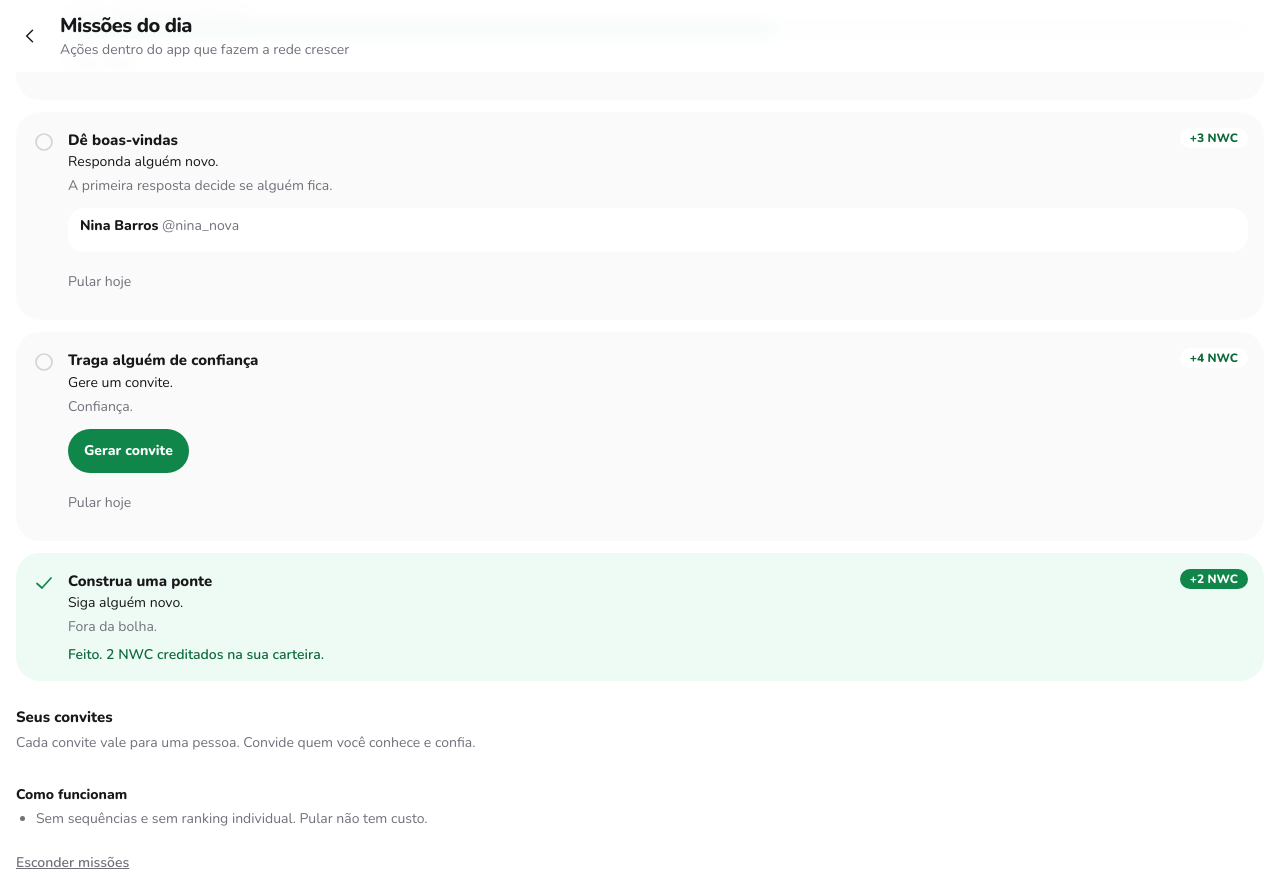
Test case: <Missions> › gera convite e mostra o link para copiar
(page scrolled)
Step 1. Click the button "Gerar convite" → click(128, 450), box [68,428,189,472]
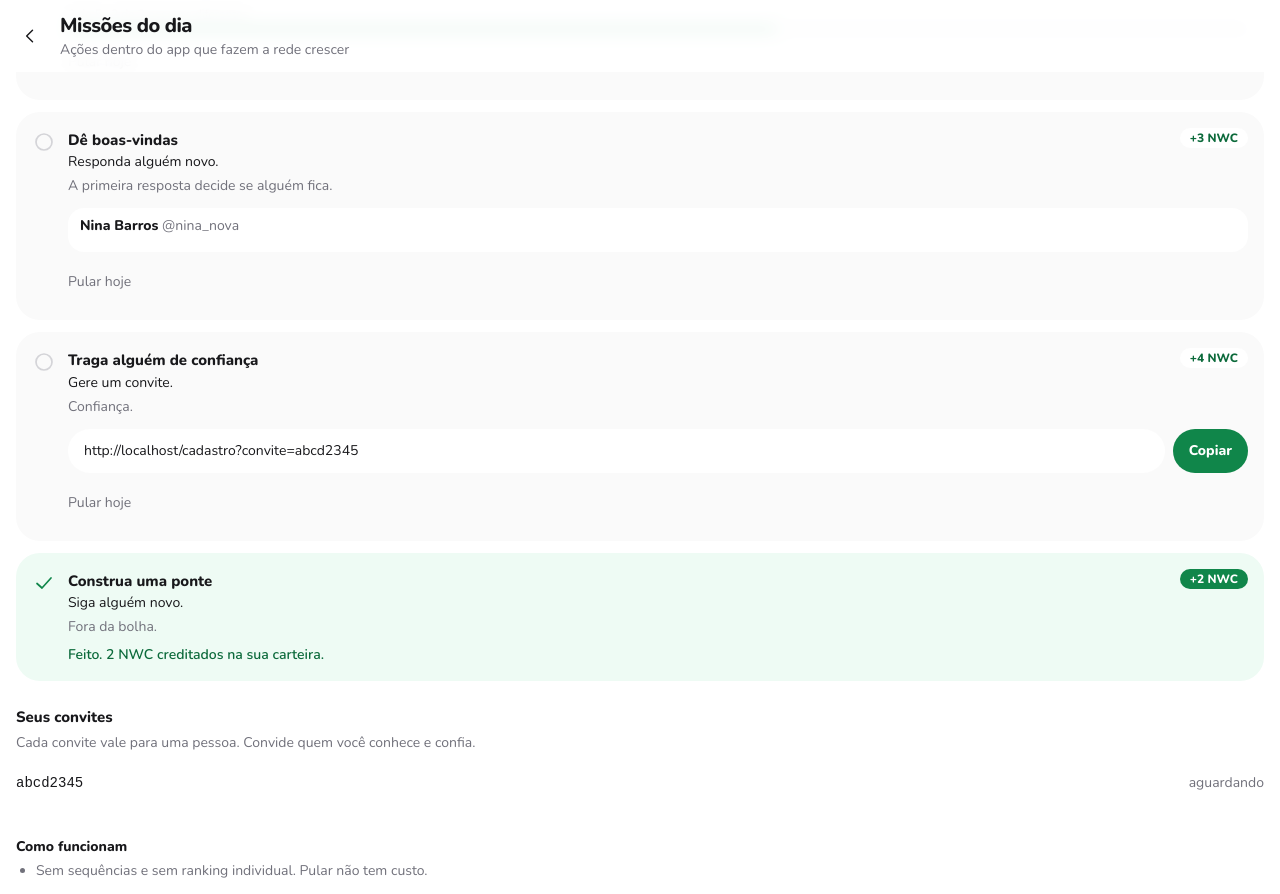
Expected: the text "abcd2345" is shown, [16,773,83,793]
